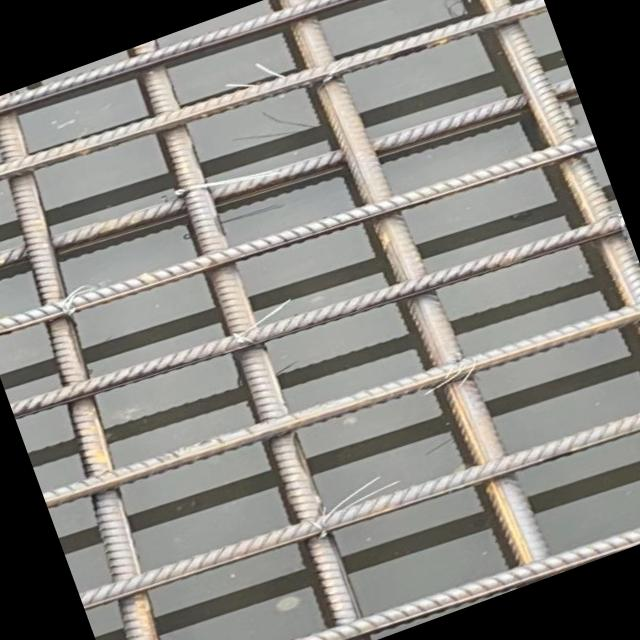ribbed bar: (272, 0, 560, 597), (11, 184, 628, 450), (0, 104, 598, 368), (43, 273, 640, 532), (0, 45, 578, 311), (119, 39, 373, 640), (80, 375, 640, 633), (0, 0, 549, 231), (0, 91, 230, 640), (447, 0, 640, 519), (0, 0, 524, 166), (118, 478, 640, 640)
